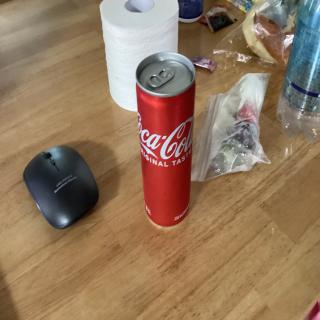cocacola: (134, 48, 200, 226)
